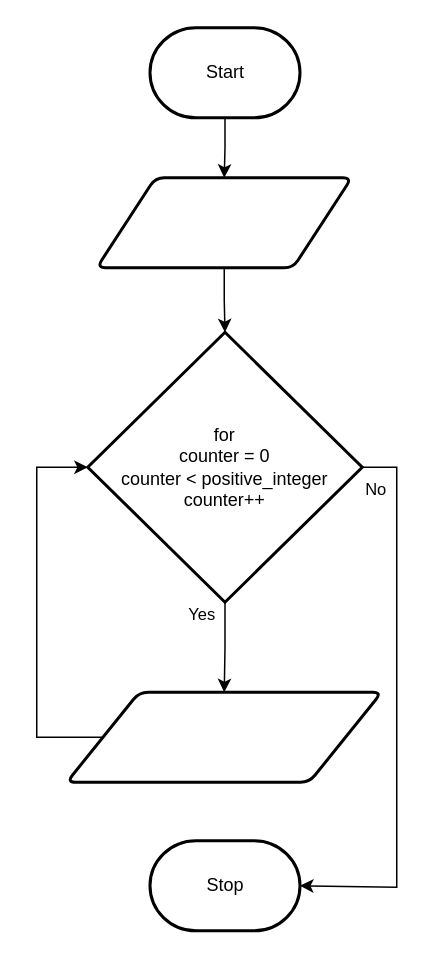
The diagram is 435 pixels wide and 957 high, and some of its shapes have lost their labels. Here are the shapes that lost their labels. From the top down, the centre of each, then its label:
point 223,222: Get positive_integer
point 223,736: Show "{counter} time(s) through the loop."
